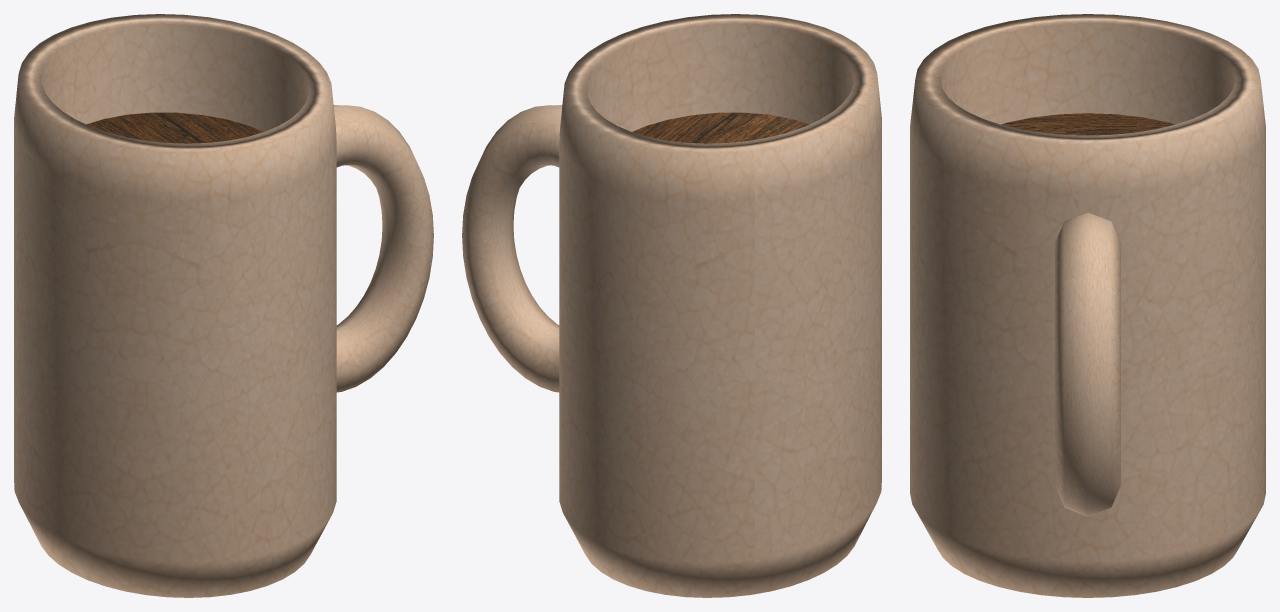
File: SM_MoleControlV2_CeramicMug.fbx
3 views of the same model, side by side, from view 1: azimuth 30°, elevation 25°; view 2: azimuth 150°, elevation 25°; view 3: azimuth 270°, elevation 25° (orthographic).
Visible parts, largest first — view 1: SM_MoleControlV2_CeramicMug; view 2: SM_MoleControlV2_CeramicMug; view 3: SM_MoleControlV2_CeramicMug.
Part boxes in pixels (x1=…): SM_MoleControlV2_CeramicMug: x1=14, y1=14, x2=433, y2=597; SM_MoleControlV2_CeramicMug: x1=462, y1=14, x2=881, y2=597; SM_MoleControlV2_CeramicMug: x1=910, y1=14, x2=1265, y2=597.
Size of what is drawn, in the model's own units: 18 by 14 by 20.
